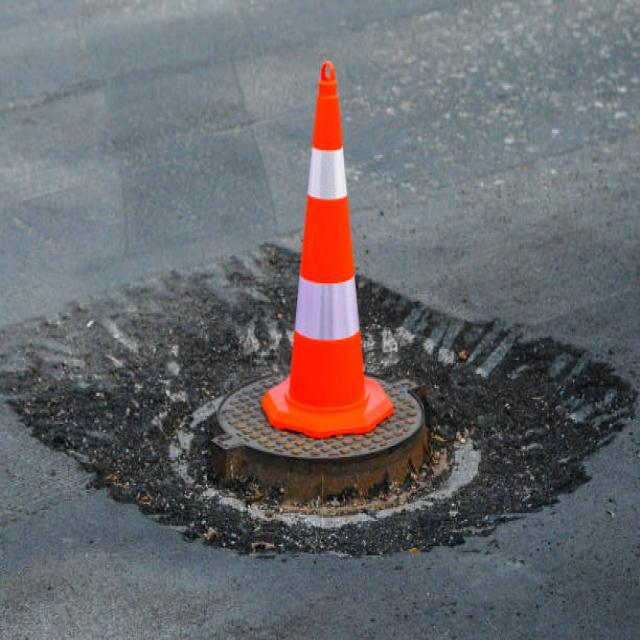Traffic Cone: (212, 23, 439, 518)
